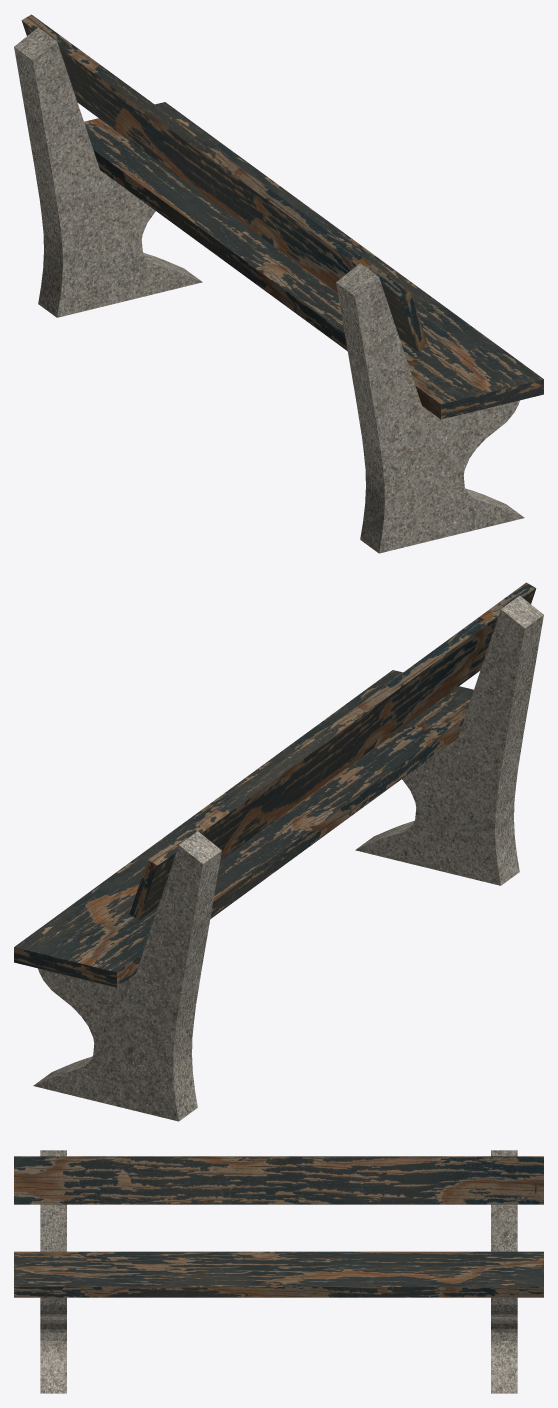
Rendered from Lavicka_Beton_Stara.fbx.
3 views of the same model, one above another, from view 1: azimuth 30°, elevation 25°; view 2: azimuth 150°, elevation 25°; view 3: azimuth 270°, elevation 25° (orthographic). The views are drawn at different scales.
Parts seen in each view (by area): view 1: Lavicka_Beton_Stara; view 2: Lavicka_Beton_Stara; view 3: Lavicka_Beton_Stara.
Part boxes in pixels (bbox=[...]): Lavicka_Beton_Stara: bbox=[14, 14, 543, 553]; Lavicka_Beton_Stara: bbox=[14, 582, 543, 1121]; Lavicka_Beton_Stara: bbox=[14, 1150, 543, 1393].
Size of the model in its own units: 51.87 by 80.59 by 200.
